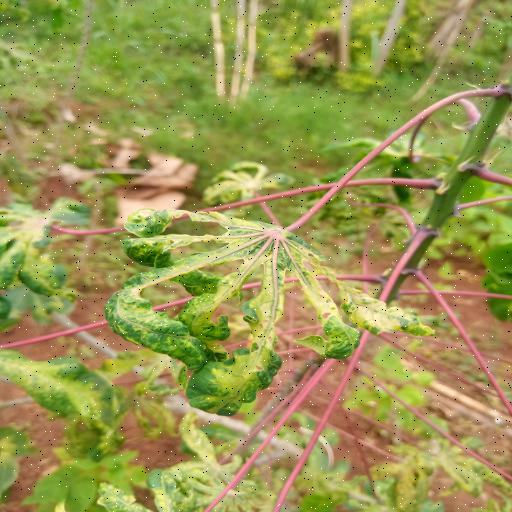Cassava_Mosaic: (107, 197, 437, 418)
